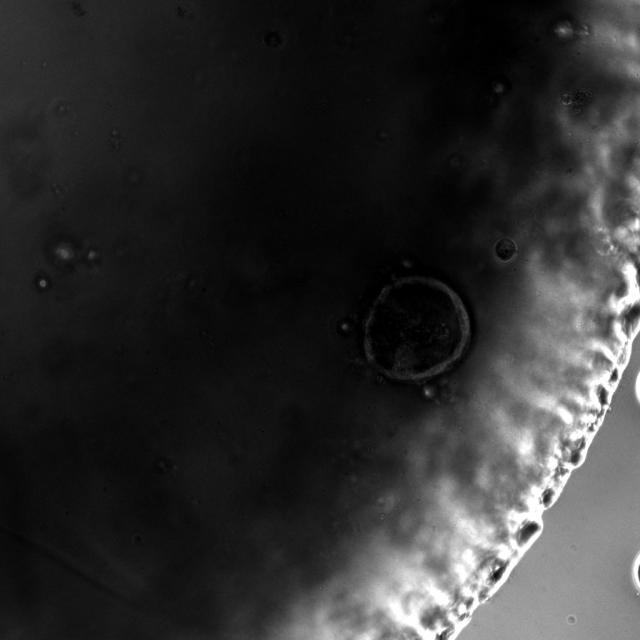organoid: (363, 276, 470, 384), (494, 238, 518, 262)
